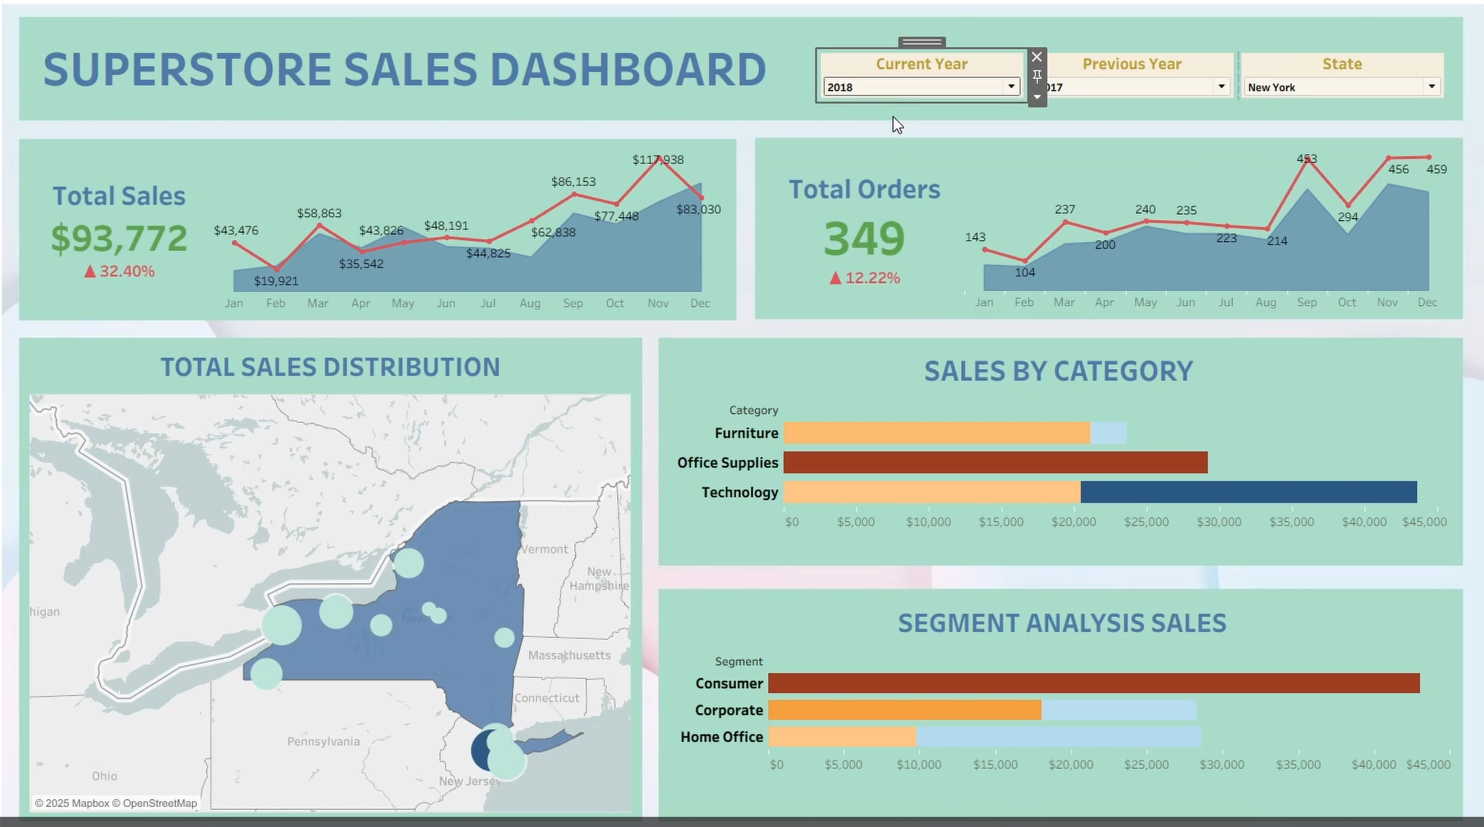

The dashboard page shown, as its layout file describes it:
{"tool":"tableau","page":{"name":"Sales Dashboard","canvas":[1600,900],"ordinal":0},"visuals":[{"type":"image","param":"Image/Tableau background.jpg","box":[8,8,1584,884]},{"type":"text","box":[61,32,800,91]},{"type":"parameter","param":"[Parameters].[Parameter 1]","box":[874,59,220,55]},{"type":"parameter","param":"[Parameters].[Current Year (copy)_787848496007118850]","box":[1094,59,220,55]},{"type":"parameter","param":"[Parameters].[Parameter 2]","box":[1314,59,220,55]},{"type":"worksheet","title":"Orders by Month","mark":"Area","rows":["CY Orders - State (copy)_787848496028823567","CY Orders (copy)_787848496028934160"],"cols":["Calculation_787848496020705292"],"box":[1028,163,507,170]},{"type":"worksheet","title":"Sales by Month-Year","mark":"Line","rows":["CY Sales - State (copy)_787848496028491789","CY Sales  (copy)_787848496028676110"],"cols":["Calculation_787848496020705292"],"box":[242,164,533,170]},{"type":"worksheet","title":"Total Orders","mark":"Automatic","box":[834,186,184,128]},{"type":"worksheet","title":"Total Sales","mark":"Automatic","box":[61,188,175,123]},{"type":"worksheet","title":"Sales Distribution by Region","mark":"Automatic","box":[50,368,630,490]},{"type":"worksheet","title":"Sales by Category","mark":"Bar","rows":["Category"],"cols":["Calculation_787848496007356419","CY Sales (copy)_787848496008433668"],"box":[719,370,816,220]},{"type":"worksheet","title":"Segment Analysis Sales","mark":"Bar","rows":["Segment"],"cols":["Calculation_787848496007356419","CY Sales (copy)_787848496008433668"],"box":[723,636,816,222]}]}

Visuals, with their boxes in screenshot pixels (x1, y1, x2, y2), scaled from the page's 1600x900 canvas onto the 1484x827 screenshot:
image: 7:7:1477:820
text: 57:29:799:113
parameter: 811:54:1015:105
parameter: 1015:54:1219:105
parameter: 1219:54:1423:105
"Orders by Month" worksheet (Area marks): 953:150:1424:306
"Sales by Month-Year" worksheet (Line marks): 224:151:719:307
"Total Orders" worksheet: 774:171:944:289
"Total Sales" worksheet: 57:173:219:286
"Sales Distribution by Region" worksheet: 46:338:631:788
"Sales by Category" worksheet (Bar marks): 667:340:1424:542
"Segment Analysis Sales" worksheet (Bar marks): 671:584:1427:788
